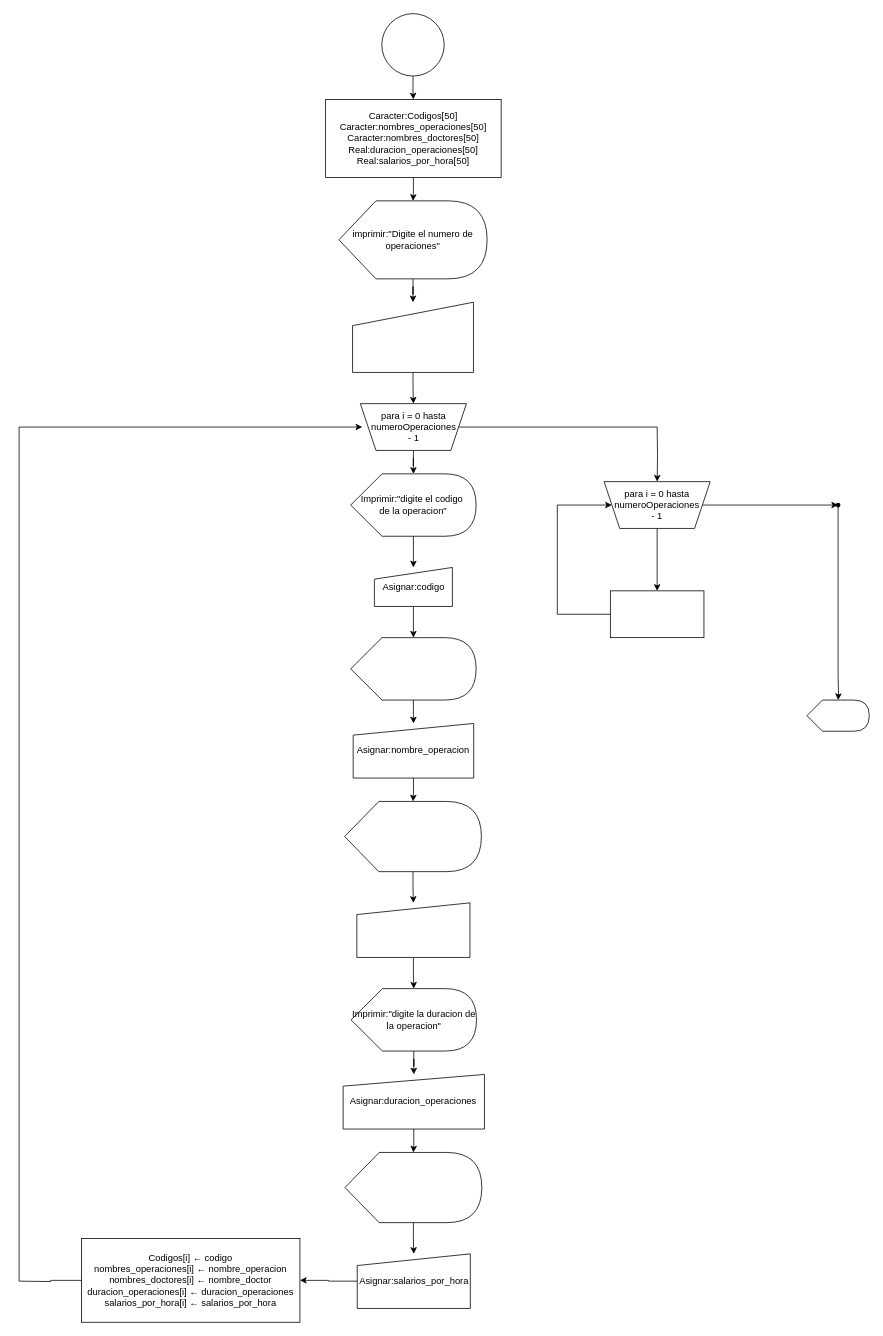
The diagram is 883 pixels wide and 1336 high, and some of its shapes have lost their labels. The shapes that lost their labels are listed below. From the top down, each one's centre as x and y in pixels, then its label:
point 412,44: inicio
point 412,336: asignar: NumeroOperaciones
point 413,668: Imprimir:"digite el nombre de la operacion"
point 412,836: Imprimir:"digite el nombre del doctor"
point 413,929: Asignar:nombre_doctor
point 413,1187: Imprimir:"digite el salario por hora del doctor"
